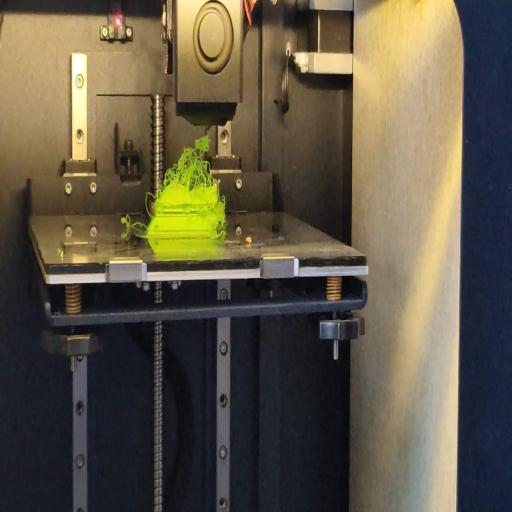spaghetti: (164, 134, 221, 187), (120, 210, 150, 234), (145, 190, 156, 217), (217, 225, 228, 237)
